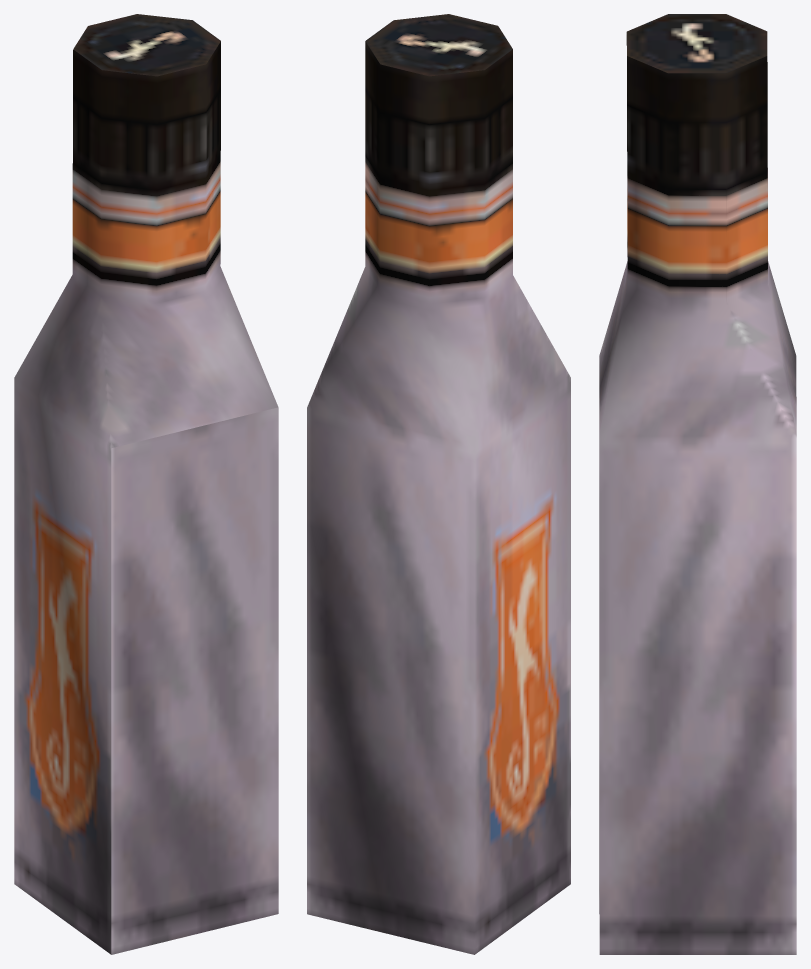
The model's file is ALK2.glb.
3 views of the same model, side by side, from view 1: azimuth 30°, elevation 25°; view 2: azimuth 150°, elevation 25°; view 3: azimuth 270°, elevation 25° (orthographic).
Parts seen in each view (by area): view 1: cylinder1; view 2: cylinder1; view 3: cylinder1.
Part boxes in pixels (box(x1,y1,x2,y2)): cylinder1: box(14, 14, 278, 954); cylinder1: box(307, 14, 570, 954); cylinder1: box(599, 14, 796, 954).
Bounding box in the file's own units: 8.52 × 41.48 × 8.53.
Materials: 1 (1 with a texture image).
